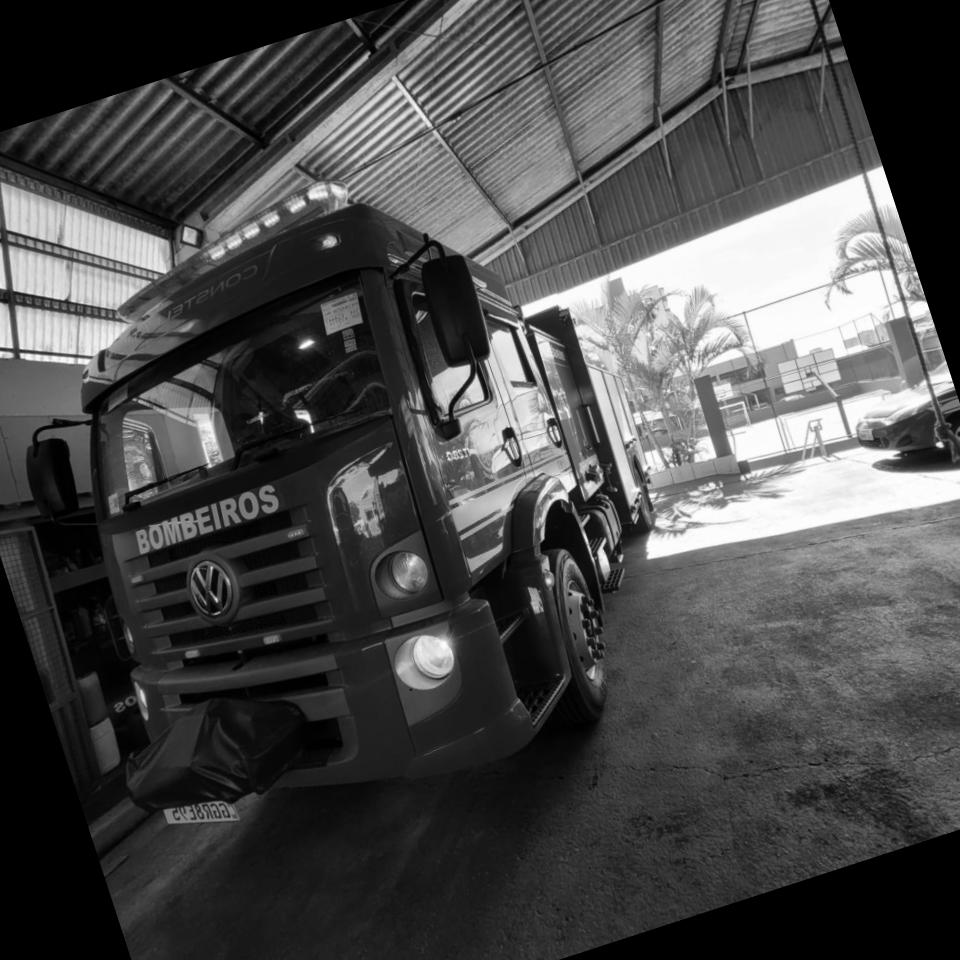viatura: (0, 106, 722, 873)
